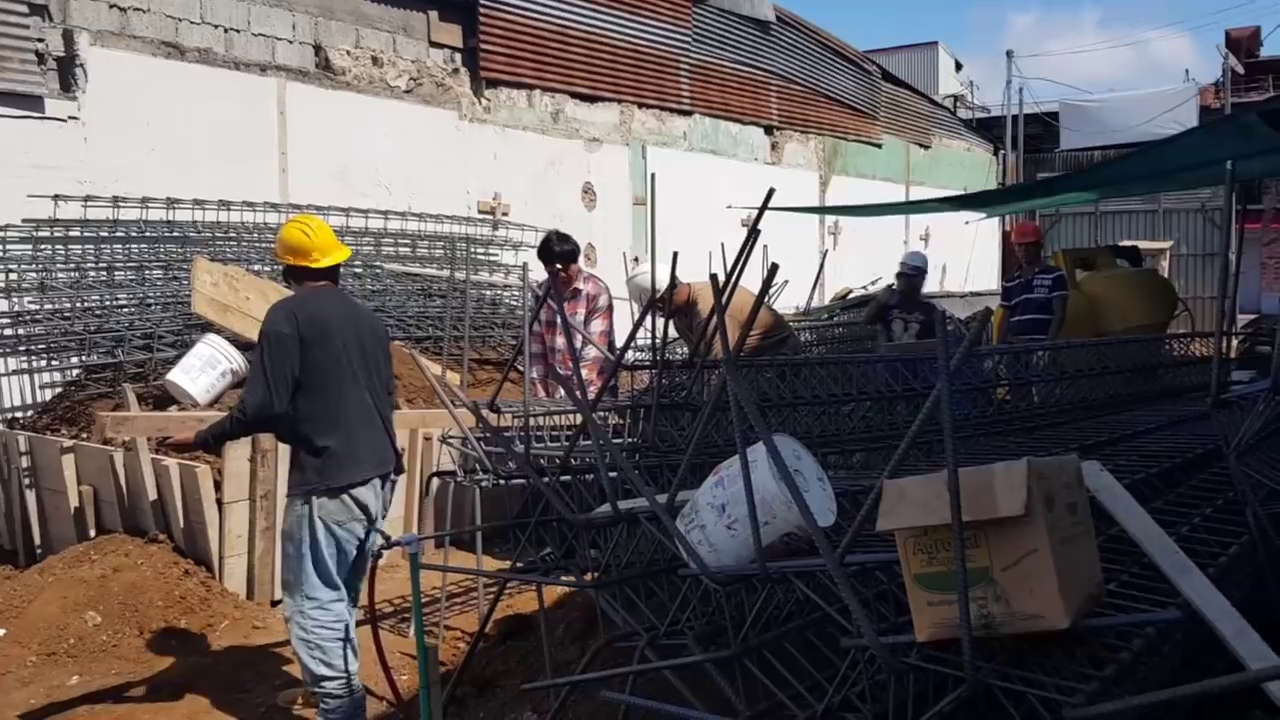helmet: (263, 215, 350, 268), (627, 264, 675, 320), (1010, 219, 1043, 249), (897, 254, 931, 273)
helmet-off: (535, 233, 581, 292)
helmet-on: (268, 213, 349, 299), (626, 253, 697, 335), (1010, 219, 1043, 277), (895, 250, 931, 303)
person: (158, 190, 404, 698), (603, 253, 798, 369), (522, 227, 612, 398), (865, 251, 952, 362), (1007, 219, 1071, 357)
